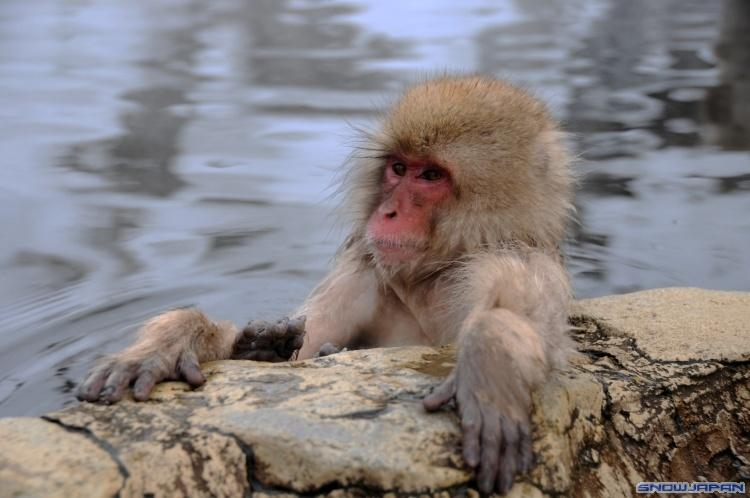monkey: (75, 74, 584, 498)
